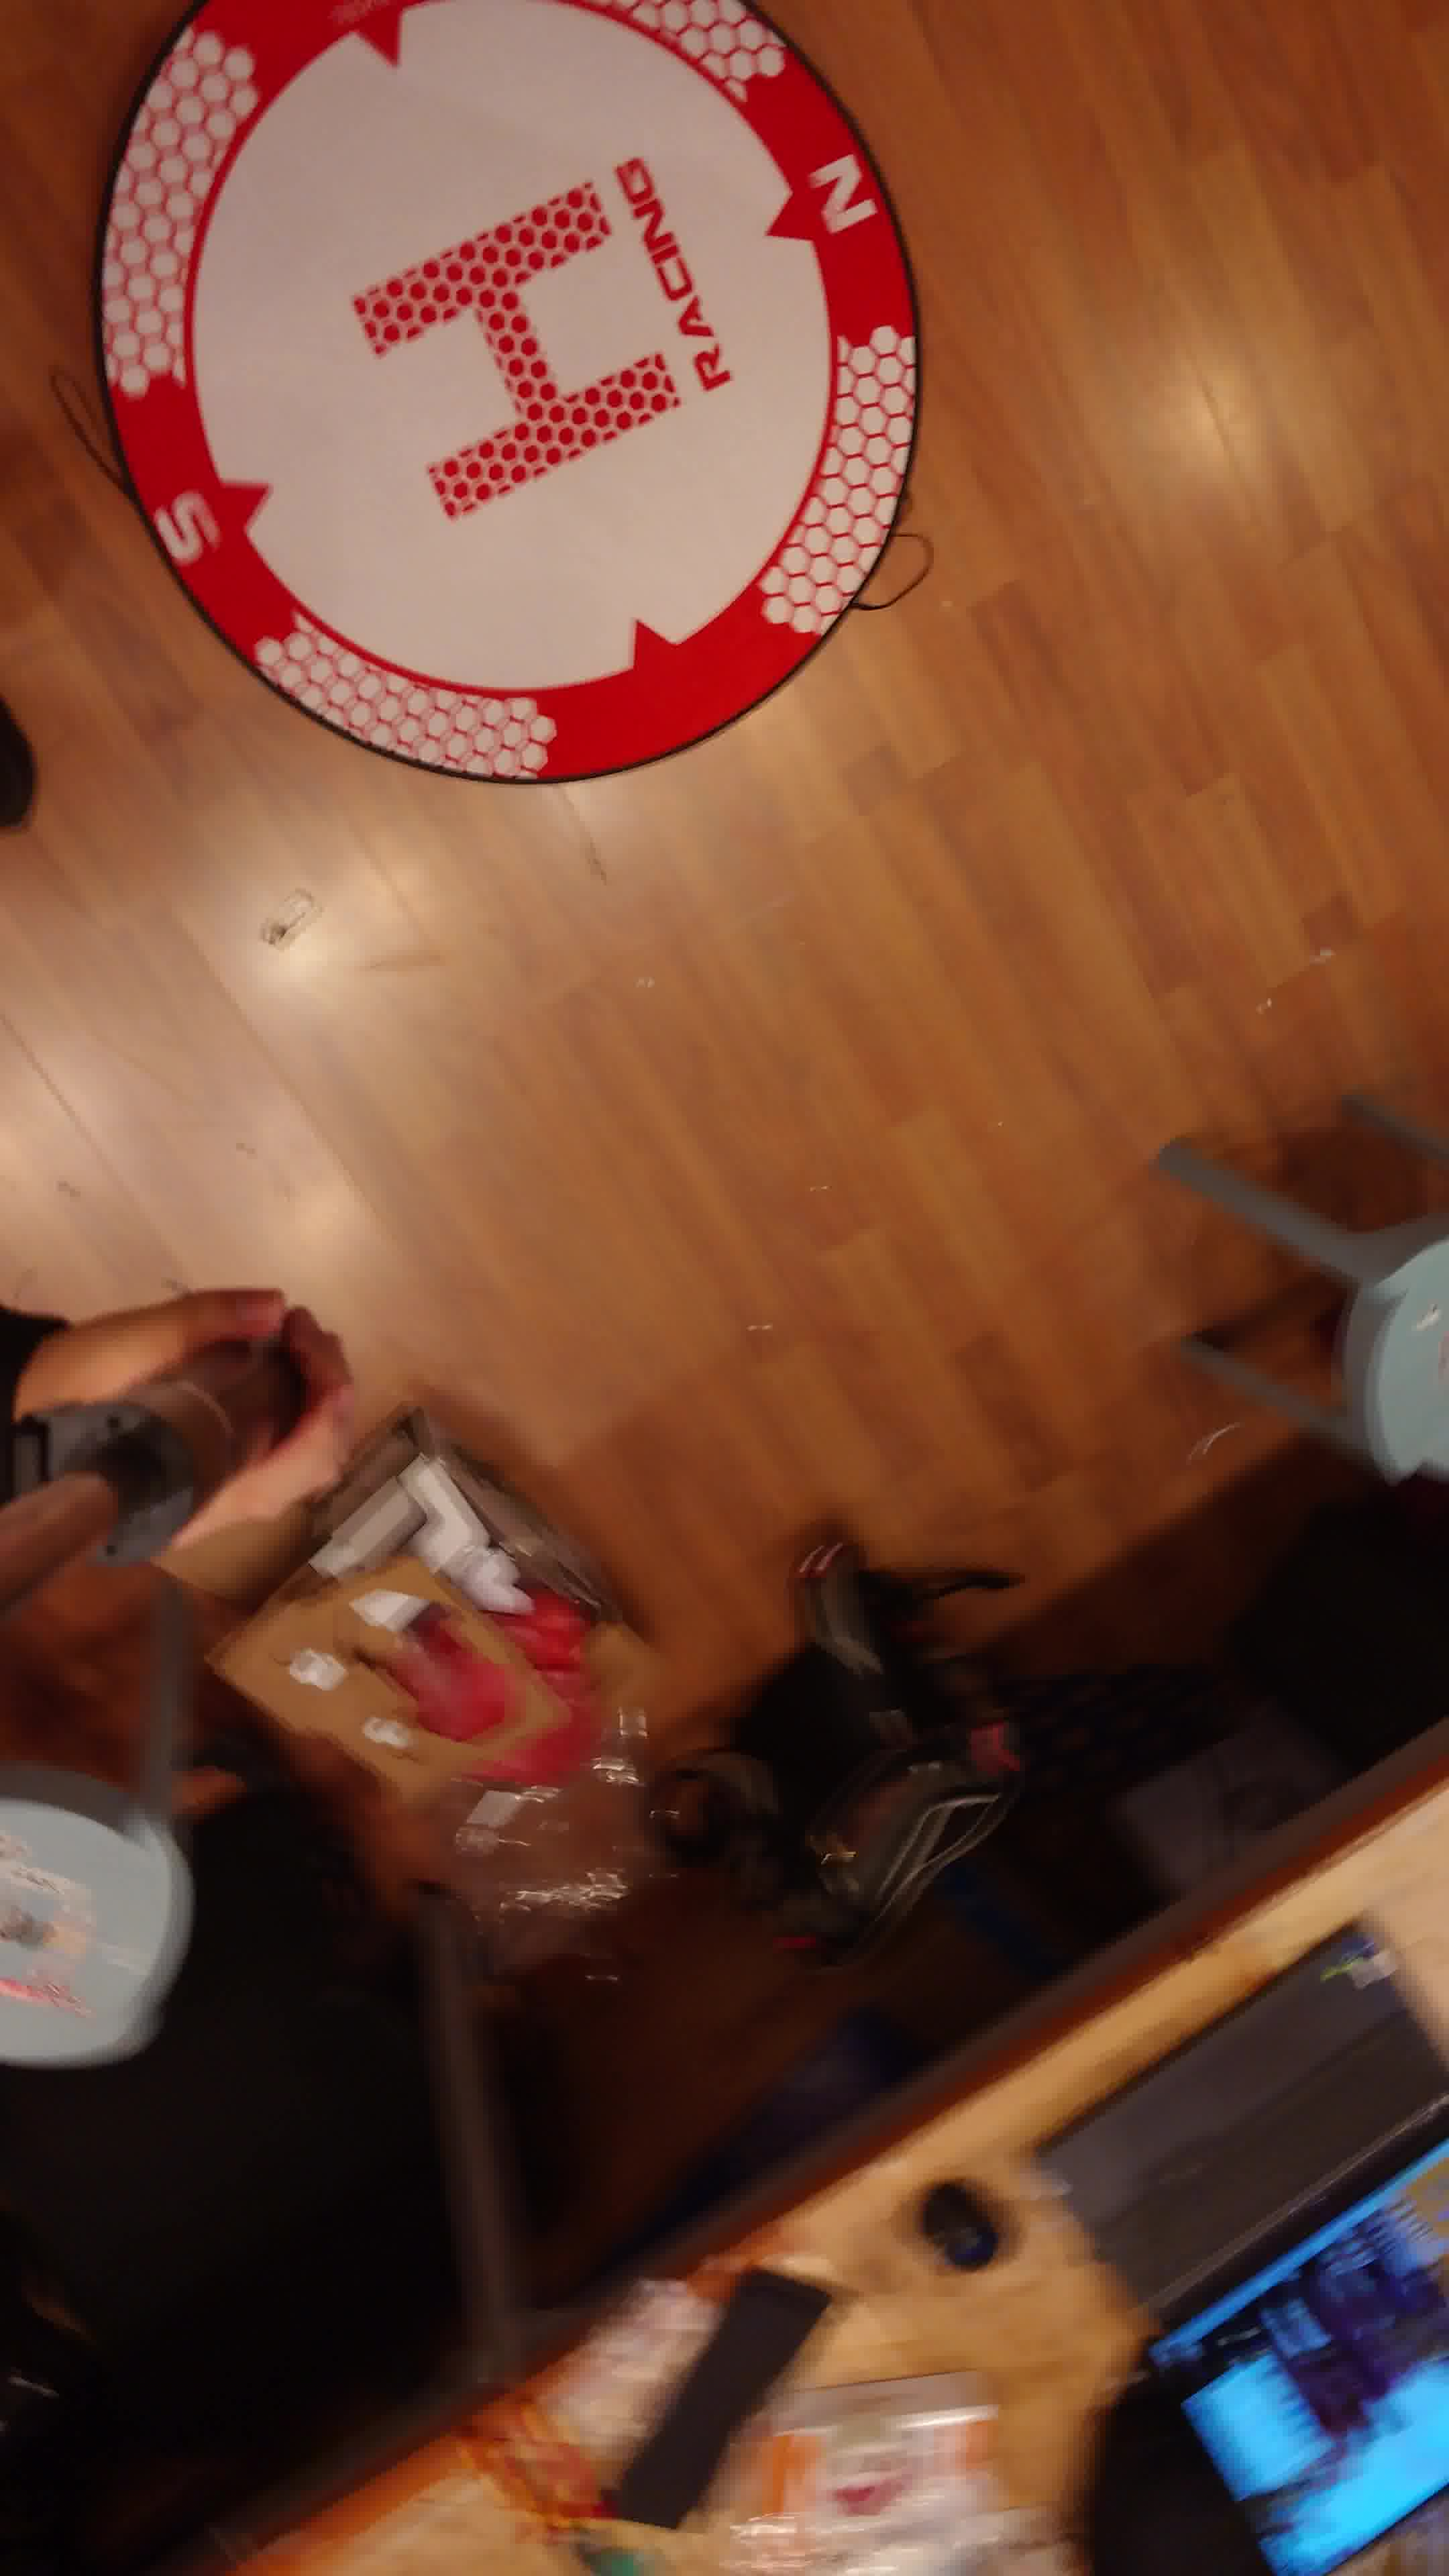H: (350, 179, 683, 524)
